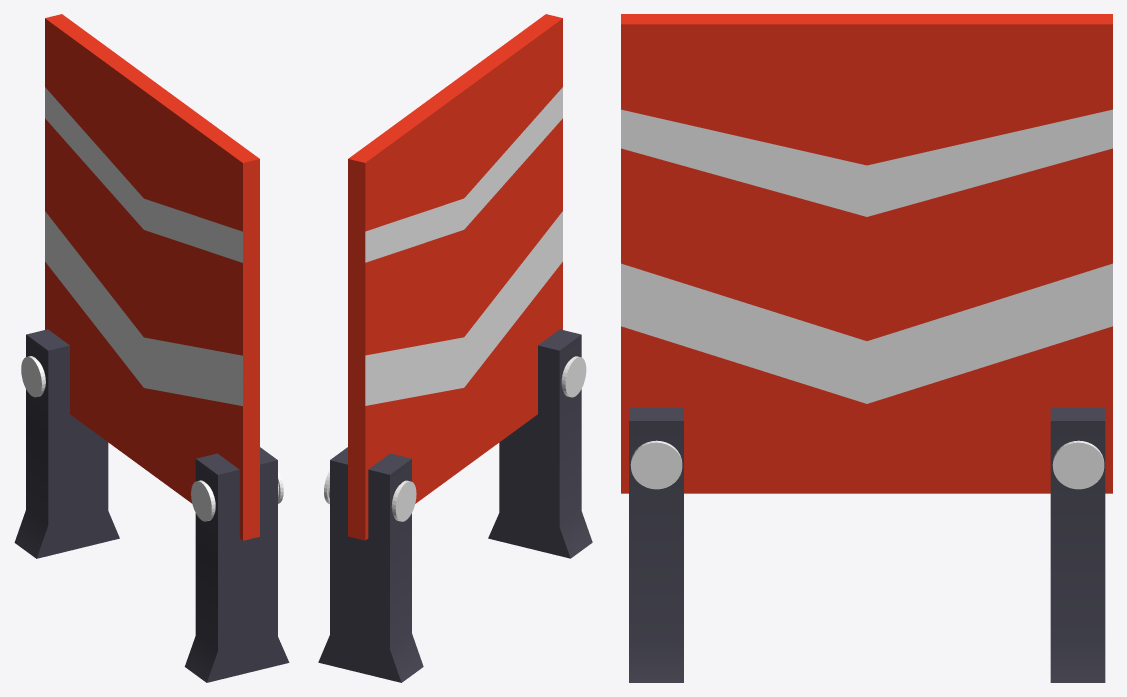
The model's file is DEfSlideBarr2.0.fbx.
3 renders of one model, left to right at view 1: azimuth 30°, elevation 25°; view 2: azimuth 150°, elevation 25°; view 3: azimuth 270°, elevation 25°, orthographic. The views are drawn at different scales.
Visible parts, largest first — view 1: SlideBarrier; view 2: SlideBarrier; view 3: SlideBarrier.
Part boxes in pixels (x1,y1,x2,y2): SlideBarrier: (14,14,289,682); SlideBarrier: (318,14,592,682); SlideBarrier: (621,14,1112,682).
Bounding box in the file's own units: 48.69 × 287 × 200.
1 material, 1 textured.
